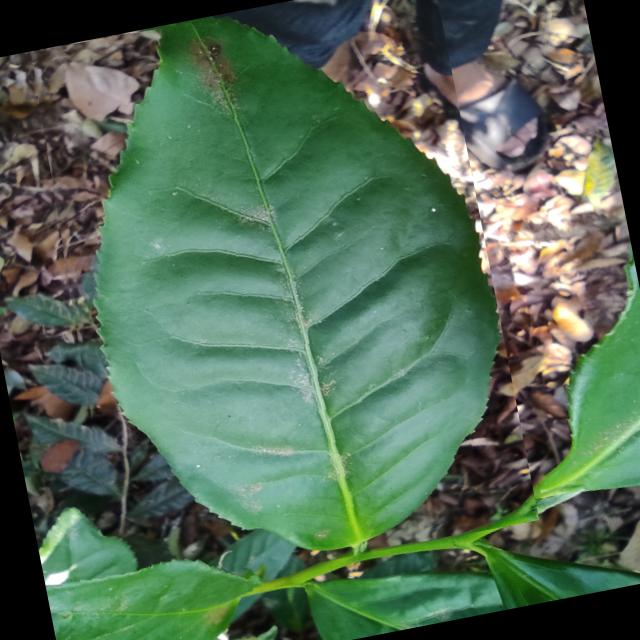Category D(7+ days, Not for Tea): (14, 0, 538, 600)
